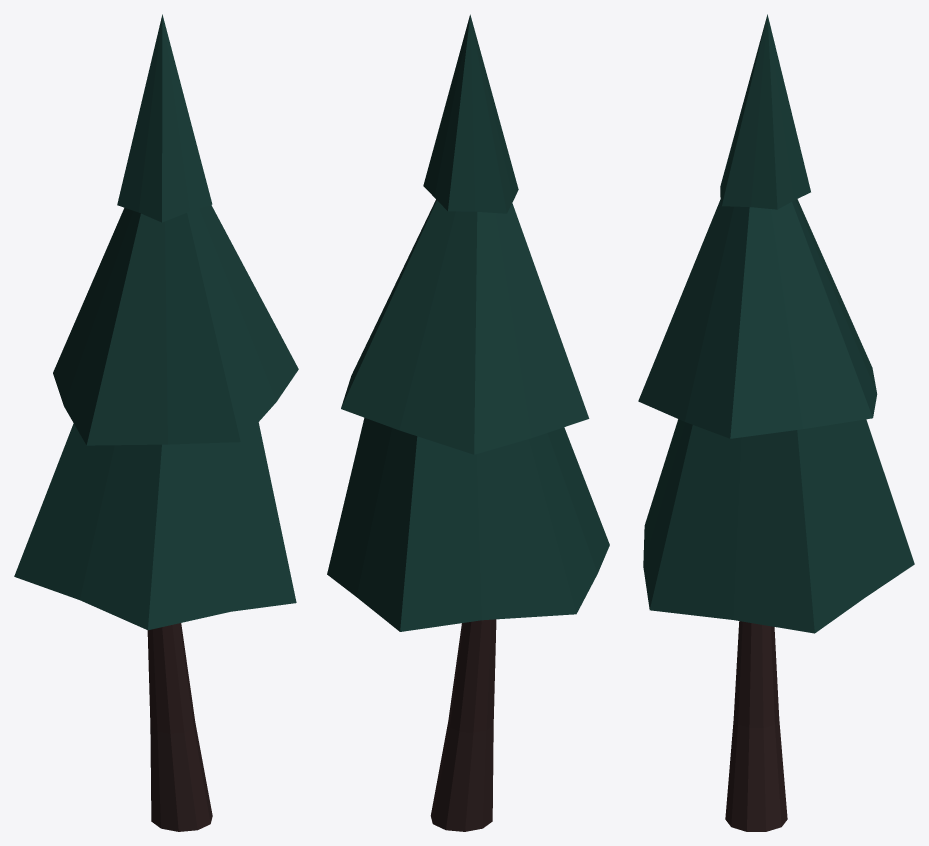
Rendered from PineTree_Middle.fbx.
The picture shows the model from 3 angles, left to right: view 1: azimuth 30°, elevation 25°; view 2: azimuth 150°, elevation 25°; view 3: azimuth 270°, elevation 25°; orthographic projection.
Parts seen in each view (by area): view 1: Cylinder.001; view 2: Cylinder.001; view 3: Cylinder.001.
Boxes of the visible parts, left/top/right/bottom form: Cylinder.001: left=14, top=14, right=298, bottom=831; Cylinder.001: left=327, top=14, right=609, bottom=831; Cylinder.001: left=638, top=14, right=914, bottom=831.
Size of the model in its own units: 205 by 643 by 202.
